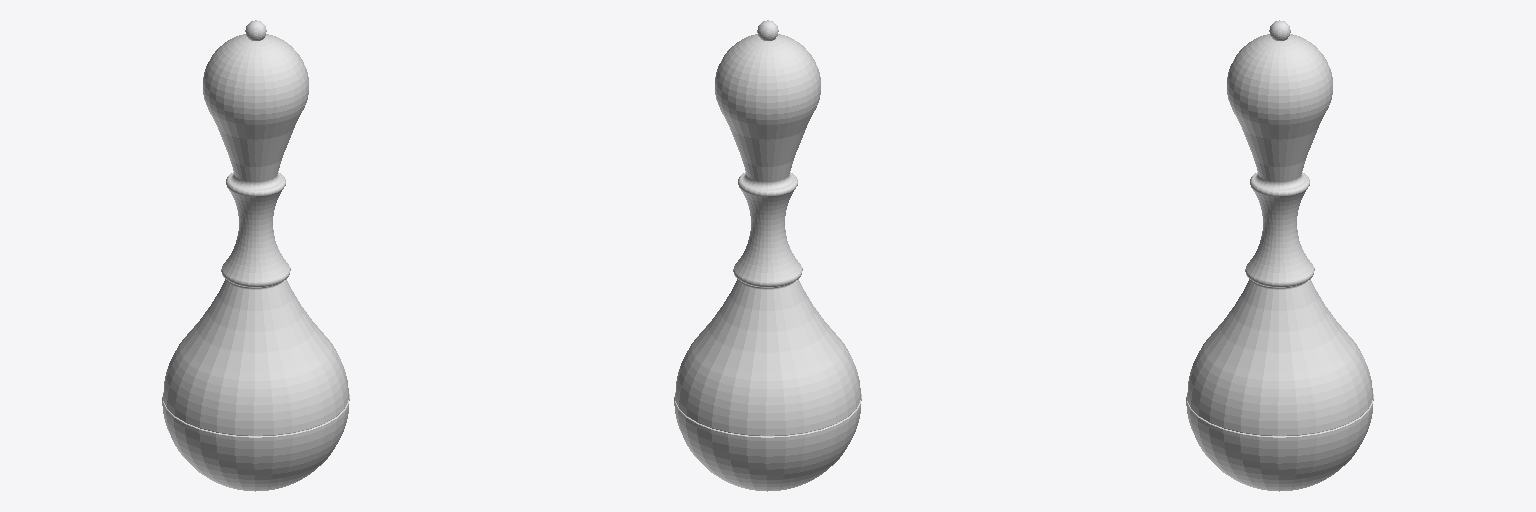
The robot description file, URDF, robot "ChessPawn":
<?xml version="1.0"?>
<robot name="ChessPawn">
  <link name="pawn_body">
    <visual>
      <origin xyz="0 0 0" rpy="0 0 0"/>
      <geometry>
        <mesh filename="./meshes/Queen.stl" scale="0.003 0.003 0.003"/>
      </geometry>
      <material name="pawn_material">
        <color rgba="0.9 0.9 0.9 1.0"/>
      </material>
    </visual>
    <collision>
      <origin xyz="0 0 0.025" rpy="0 0 0"/>
      <geometry>
        <cylinder radius="0.012" length="0.05"/>
      </geometry>
    </collision>
    <inertial>
      <origin xyz="0 0 0.025" rpy="0 0 0"/>
      <mass value="0.04"/> <!-- 40 grams, or adjust -->
      <inertia
        ixx="0.00005" ixy="0.0" ixz="0.0"
        iyy="0.00005" iyz="0.0"
        izz="0.00001"/>
    </inertial>
  </link>
</robot>

--- What the picture shows (computed from the rendered views, not written in the file) ---
The picture shows the robot from 3 angles, left to right: view 1: azimuth 30°, elevation 25°; view 2: azimuth 150°, elevation 25°; view 3: azimuth 270°, elevation 25°; orthographic projection.
Model ChessPawn with 1 links and 0 joints (none), rooted at pawn_body, posed every joint at zero.
Visible links, largest first — view 1: pawn_body; view 2: pawn_body; view 3: pawn_body.
Link boxes in pixels (x1=…): pawn_body: x1=162, y1=20, x2=349, y2=491; pawn_body: x1=674, y1=20, x2=861, y2=491; pawn_body: x1=1186, y1=20, x2=1373, y2=491.
Size in the robot's own frame: 0.0524 by 0.0522 by 0.1419 metres.
1 mesh visuals loaded from 1 distinct referenced files (1 binary STL).